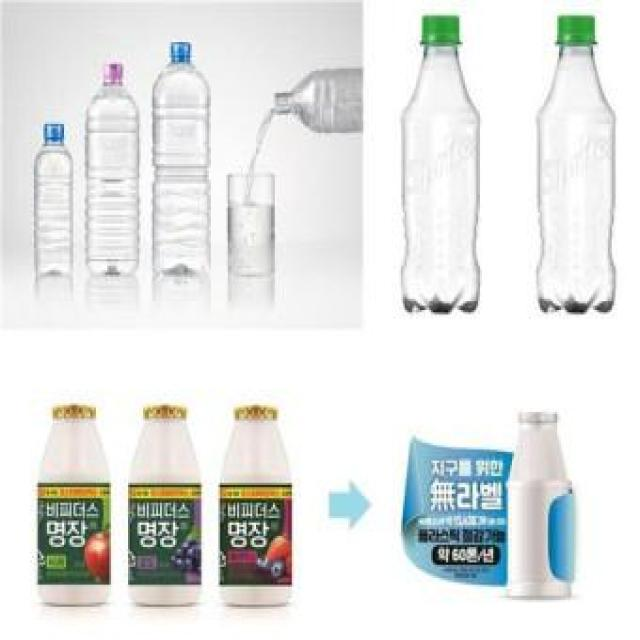bottle: (530, 16, 620, 314), (399, 11, 486, 315), (152, 40, 211, 277), (86, 63, 141, 278), (266, 64, 364, 144), (30, 122, 75, 274)
